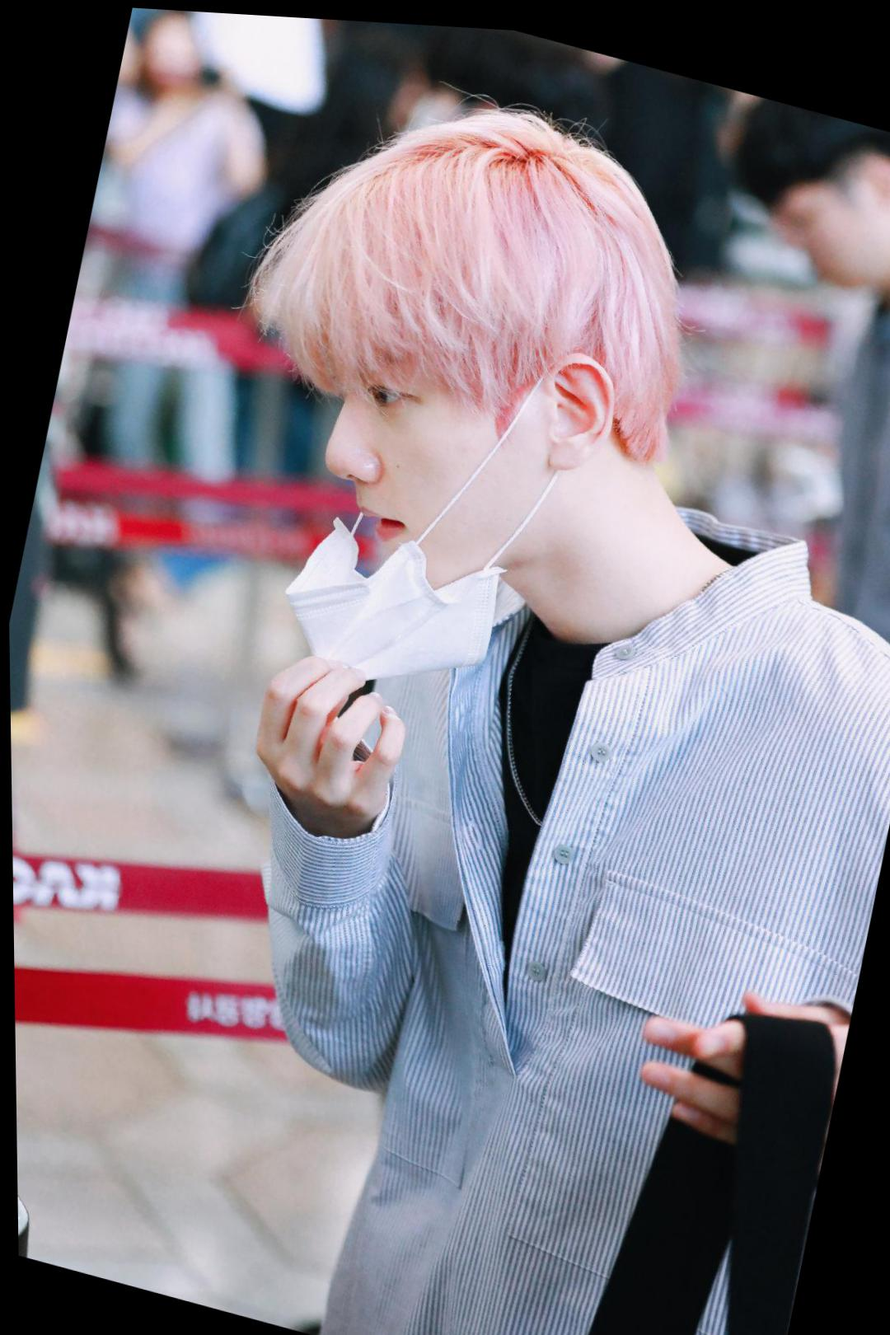NONE: (765, 145, 890, 292)
WRONG: (281, 297, 525, 623)
